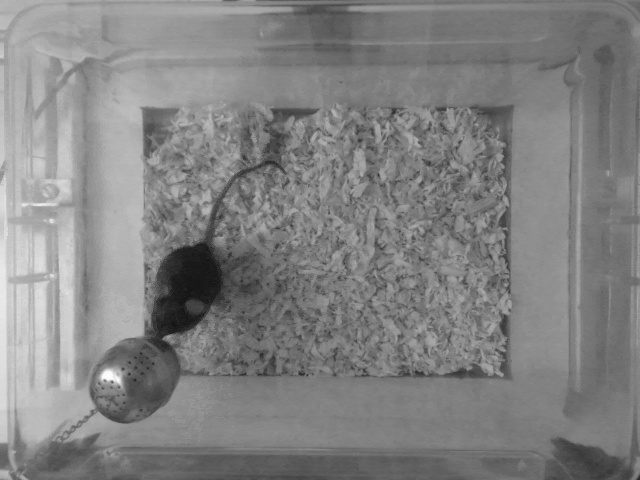mice: (147, 158, 289, 339)
